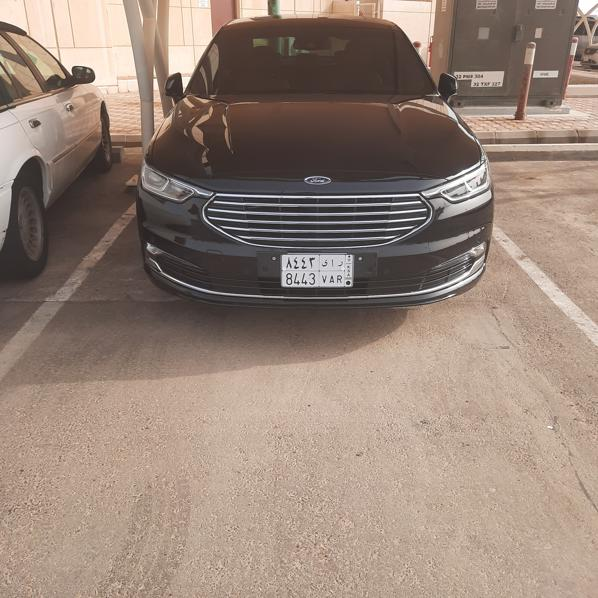numberplate: (281, 254, 353, 288)
